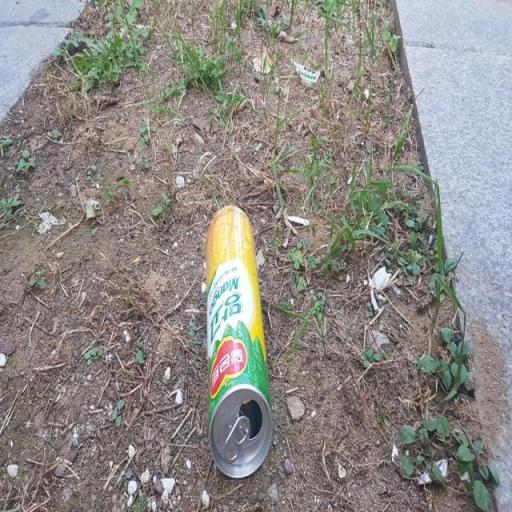metal: (200, 200, 274, 498)
